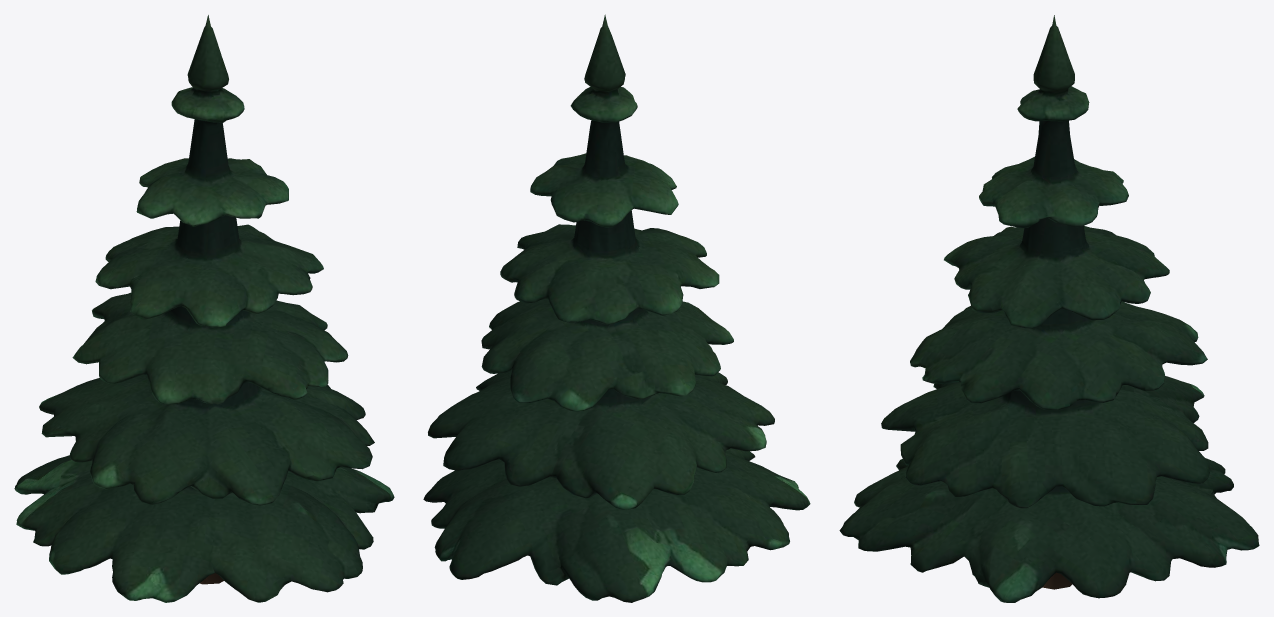
Rendered from pine_b.glb.
3 renders of one model, left to right at view 1: azimuth 30°, elevation 25°; view 2: azimuth 150°, elevation 25°; view 3: azimuth 270°, elevation 25°, orthographic.
Visible parts, largest first — view 1: pine_b_crown0; view 2: pine_b_crown0; view 3: pine_b_crown0.
Boxes of the visible parts, <box> form: pine_b_crown0: <box>14,15,394,602</box>; pine_b_crown0: <box>423,14,810,602</box>; pine_b_crown0: <box>839,15,1259,602</box>.
Size of the model in its own units: 2.43 by 3.95 by 2.66.
Materials: 2 (2 with a texture image).
